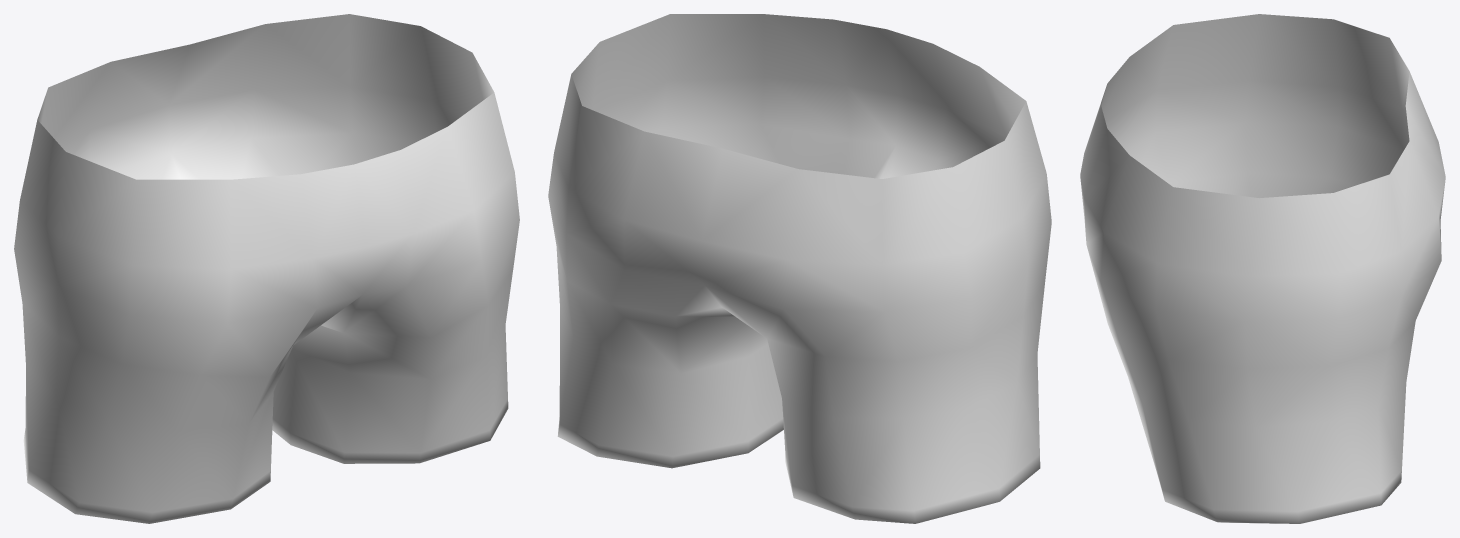
The model's file is AF_M_Trousers_09.FBX.
3 renders of one model, left to right at view 1: azimuth 30°, elevation 25°; view 2: azimuth 150°, elevation 25°; view 3: azimuth 270°, elevation 25°, orthographic. The views are drawn at different scales.
Parts seen in each view (by area): view 1: AF_M_Trousers_09; view 2: AF_M_Trousers_09; view 3: AF_M_Trousers_09.
Boxes of the visible parts, bbox=[...] form: AF_M_Trousers_09: bbox=[14, 14, 519, 523]; AF_M_Trousers_09: bbox=[548, 14, 1051, 523]; AF_M_Trousers_09: bbox=[1080, 14, 1445, 523].
Size of the model in its own units: 344 by 260 by 267.
